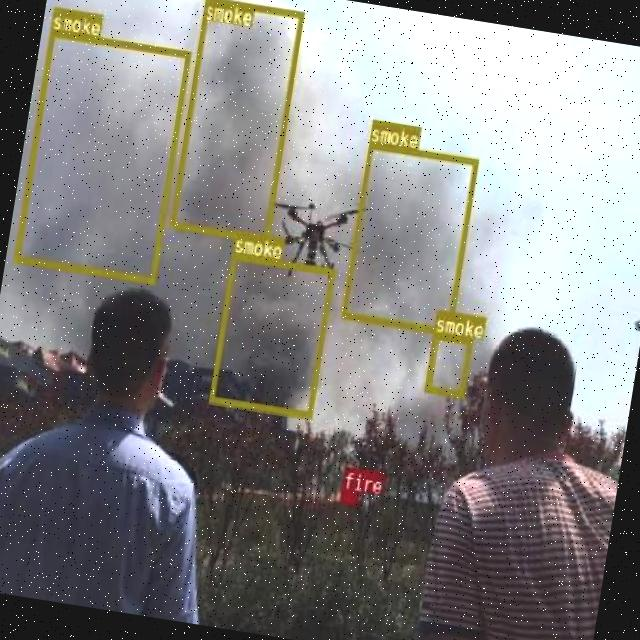fire: (339, 488, 358, 503)
smoke: (13, 29, 191, 284), (169, 0, 304, 242), (341, 140, 478, 334), (209, 252, 334, 418), (424, 332, 473, 398)
